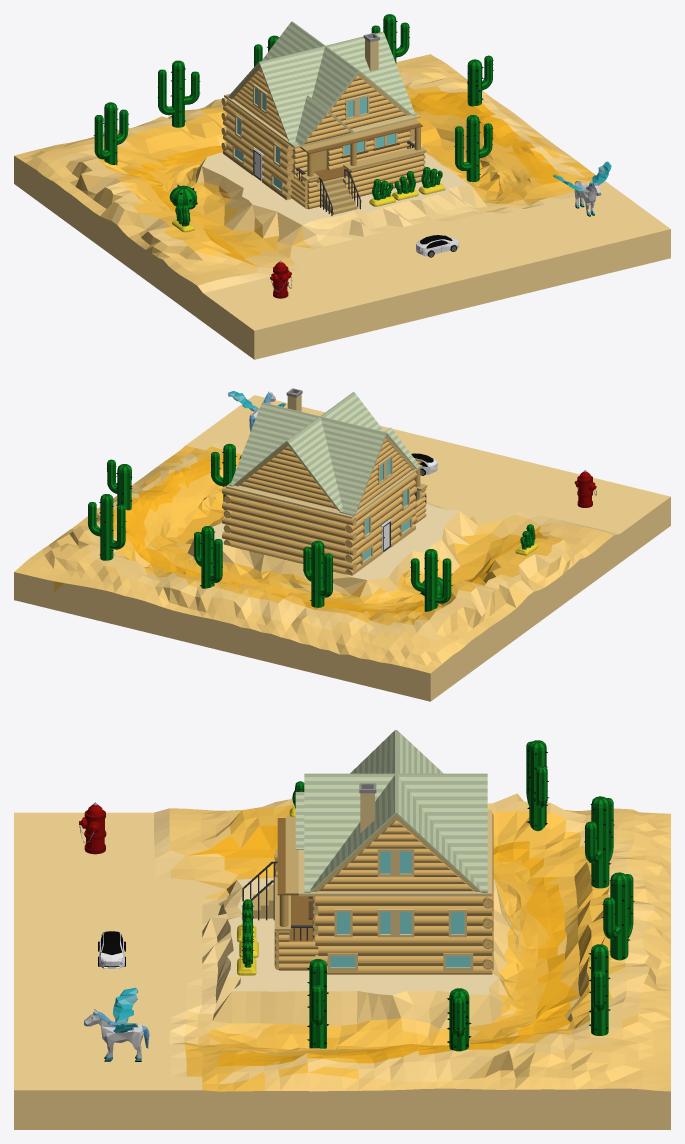
3 views of the same model, one above another, from view 1: azimuth 30°, elevation 25°; view 2: azimuth 150°, elevation 25°; view 3: azimuth 270°, elevation 25° (orthographic). The views are drawn at different scales.
Visible parts, largest first — view 1: Cube.001, Cube.1516, Cylinder.037, Cylinder.044, Cylinder.045, Cylinder.038, ANIMAL_PEGASO, Cylinder.042, VEHICLES_TESLA, OBJRANDOM_FIRE_HYDRANT, Cylinder.039, Cylinder.041 (+2 smaller); view 2: Cube.001, Cube.1516, Cylinder.042, Cylinder.045, Cylinder.044, Cylinder.043, Cylinder.038, Cylinder.037, OBJRANDOM_FIRE_HYDRANT, ANIMAL_PEGASO; view 3: Cube.001, Cube.1516, Cylinder.043, Cylinder.044, ANIMAL_PEGASO, Cylinder.045, Cylinder.042, Cylinder.037, Cylinder.038, OBJRANDOM_FIRE_HYDRANT, VEHICLES_TESLA, Cylinder.041.
Boxes of the visible parts, left/top/right/bottom form: Cube.001: left=14, top=54, right=670, bottom=359; Cube.1516: left=221, top=21, right=426, bottom=215; Cylinder.037: left=454, top=115, right=493, bottom=182; Cylinder.044: left=157, top=60, right=200, bottom=127; Cylinder.045: left=93, top=102, right=129, bottom=164; Cylinder.038: left=467, top=55, right=493, bottom=106; ANIMAL_PEGASO: left=553, top=161, right=611, bottom=216; Cylinder.042: left=371, top=14, right=409, bottom=63; VEHICLES_TESLA: left=416, top=235, right=459, bottom=257; OBJRANDOM_FIRE_HYDRANT: left=270, top=260, right=292, bottom=298; Cylinder.039: left=369, top=179, right=395, bottom=206; Cylinder.041: left=418, top=167, right=445, bottom=194; Cube.001: left=14, top=395, right=670, bottom=701; Cube.1516: left=222, top=388, right=427, bottom=575; Cylinder.042: left=88, top=494, right=126, bottom=560; Cylinder.045: left=410, top=549, right=452, bottom=611; Cylinder.044: left=303, top=540, right=333, bottom=607; Cylinder.043: left=193, top=526, right=222, bottom=588; Cylinder.038: left=107, top=459, right=131, bottom=510; Cylinder.037: left=210, top=443, right=241, bottom=510; OBJRANDOM_FIRE_HYDRANT: left=574, top=470, right=596, bottom=507; ANIMAL_PEGASO: left=228, top=391, right=285, bottom=431; Cube.001: left=14, top=793, right=670, bottom=1129; Cube.1516: left=242, top=730, right=493, bottom=974; Cylinder.043: left=602, top=872, right=634, bottom=960; Cylinder.044: left=584, top=796, right=614, bottom=888; ANIMAL_PEGASO: left=84, top=987, right=149, bottom=1061; Cylinder.045: left=526, top=740, right=548, bottom=831; Cylinder.042: left=588, top=944, right=610, bottom=1035; Cylinder.037: left=307, top=959, right=328, bottom=1048; Cylinder.038: left=447, top=988, right=471, bottom=1051; OBJRANDOM_FIRE_HYDRANT: left=79, top=802, right=106, bottom=854; VEHICLES_TESLA: left=98, top=931, right=125, bottom=968; Cylinder.041: left=237, top=932, right=256, bottom=975.
Bounding box in the file's own units: 4002 × 1627 × 4001.
Materials: 39 (3 with a texture image).
